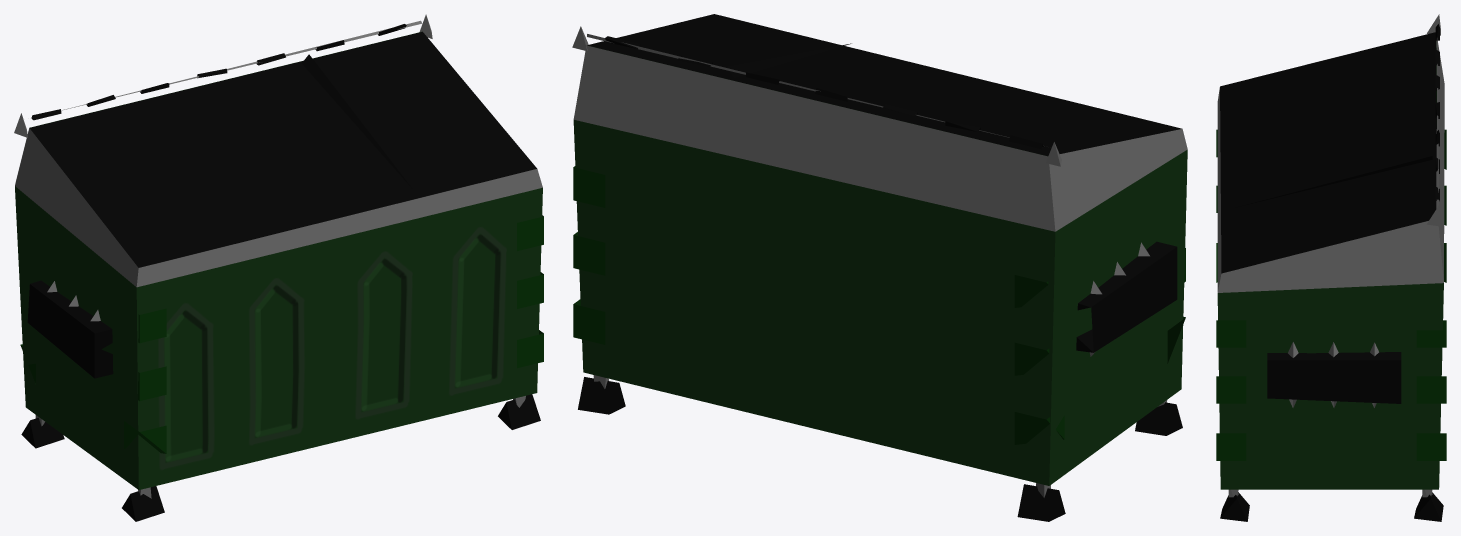
File: LixeiraGrandeLOD1.fbx
3 renders of one model, left to right at view 1: azimuth 30°, elevation 25°; view 2: azimuth 150°, elevation 25°; view 3: azimuth 270°, elevation 25°, orthographic. The views are drawn at different scales.
Visible parts, largest first — view 1: Big_Carbage_Can_Lod1; view 2: Big_Carbage_Can_Lod1; view 3: Big_Carbage_Can_Lod1.
Part boxes in pixels (<box>): Big_Carbage_Can_Lod1: <box>14,14,543,521</box>; Big_Carbage_Can_Lod1: <box>572,14,1187,521</box>; Big_Carbage_Can_Lod1: <box>1216,14,1446,521</box>.
Bounding box in the file's own units: 251 × 178 × 118.
